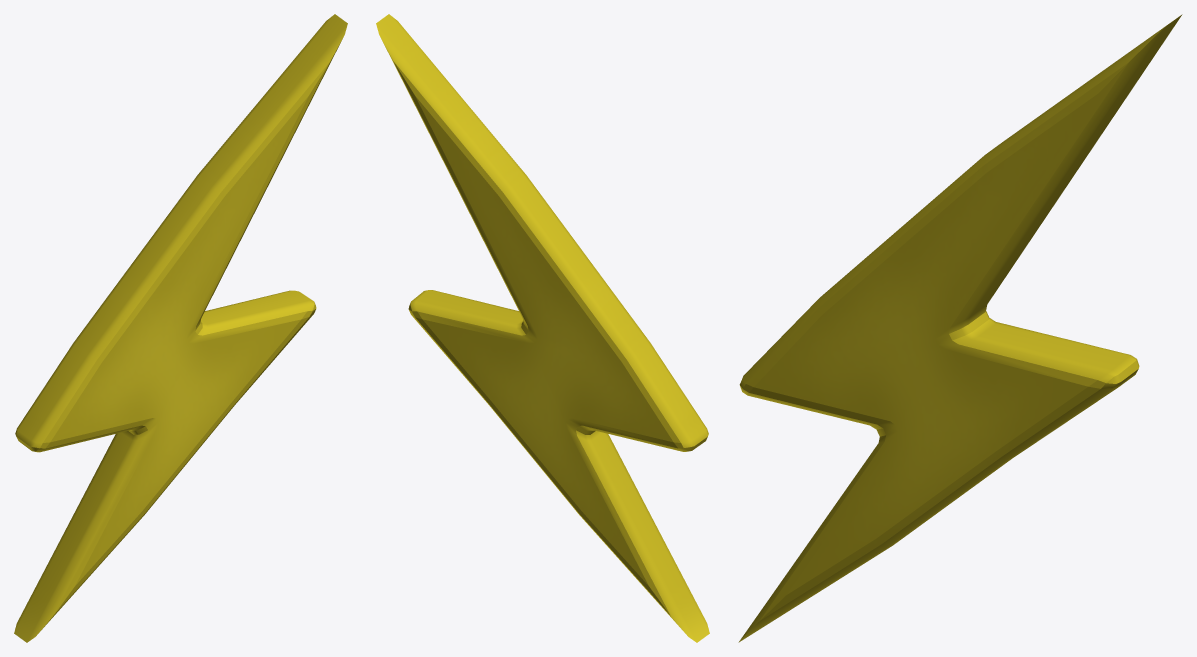
Rendered from Perk_Stamina.obj.
3 views of the same model, side by side, from view 1: azimuth 30°, elevation 25°; view 2: azimuth 150°, elevation 25°; view 3: azimuth 330°, elevation 25° (orthographic). The views are drawn at different scales.
Parts seen in each view (by area): view 1: pCube1; view 2: pCube1; view 3: pCube1.
Part boxes in pixels (bbox=[...]): pCube1: bbox=[14, 14, 347, 642]; pCube1: bbox=[376, 14, 709, 642]; pCube1: bbox=[738, 14, 1182, 642].
Bounding box in the file's own units: 1.4 × 2.25 × 0.1849.
